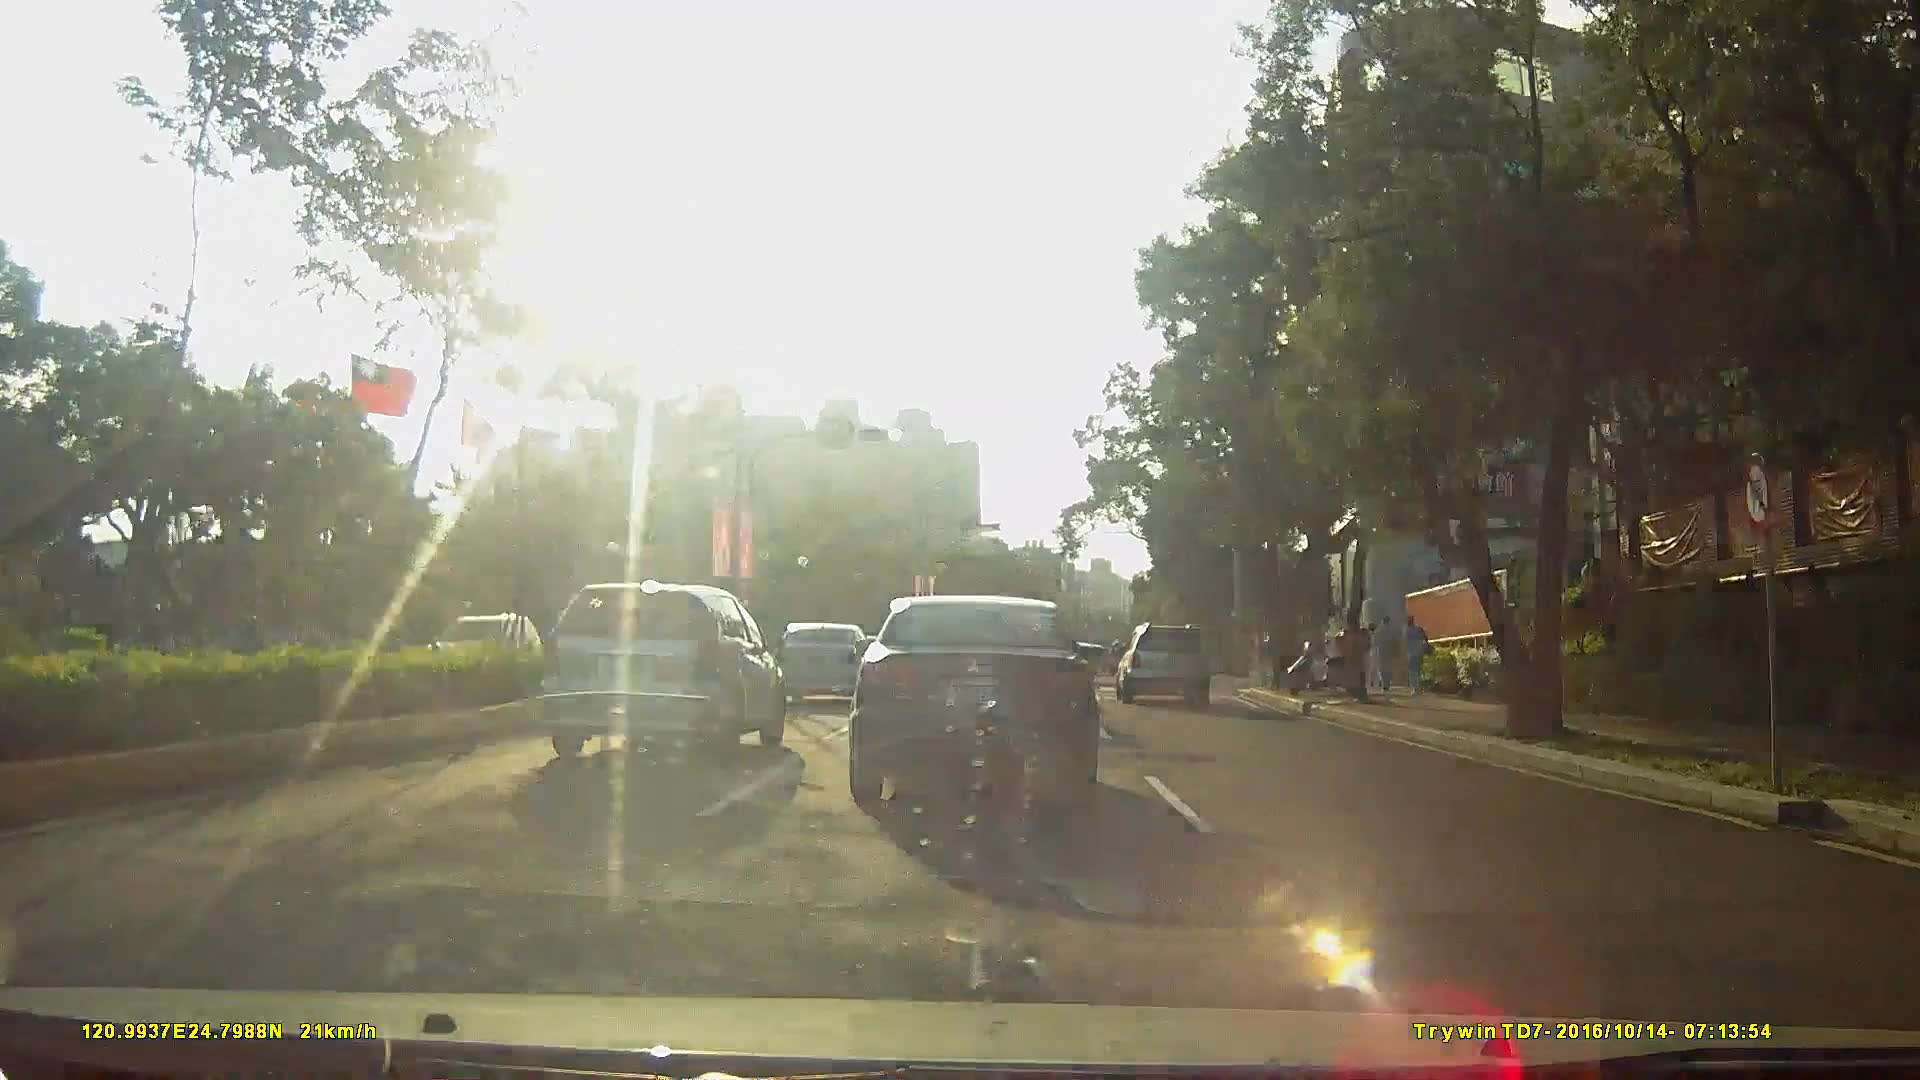pedestrian: (1400, 616, 1432, 702), (1373, 614, 1397, 699)
vehicle: (843, 593, 1097, 814), (532, 580, 786, 761), (1112, 622, 1220, 709), (774, 620, 877, 711)
